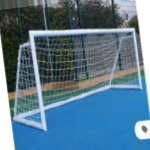goals: (11, 27, 143, 128)
